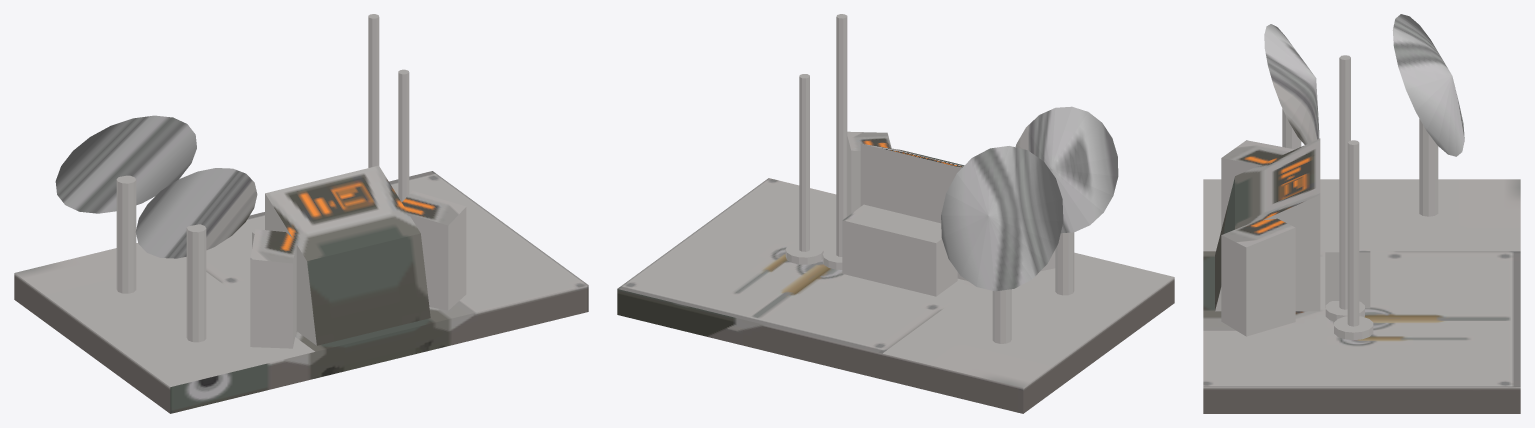
File: Building_AncientCommsConsole.glb
3 views of the same model, side by side, from view 1: azimuth 30°, elevation 25°; view 2: azimuth 150°, elevation 25°; view 3: azimuth 270°, elevation 25° (orthographic). The views are drawn at different scales.
Parts seen in each view (by area): view 1: AncientCommsConsole; view 2: AncientCommsConsole; view 3: AncientCommsConsole.
Part boxes in pixels (<box>): AncientCommsConsole: <box>14,14,588,413</box>; AncientCommsConsole: <box>617,14,1174,413</box>; AncientCommsConsole: <box>1203,14,1520,413</box>.
Size of the model in its own units: 2.94 by 1.88 by 1.9.
Materials: 1 (1 with a texture image).
